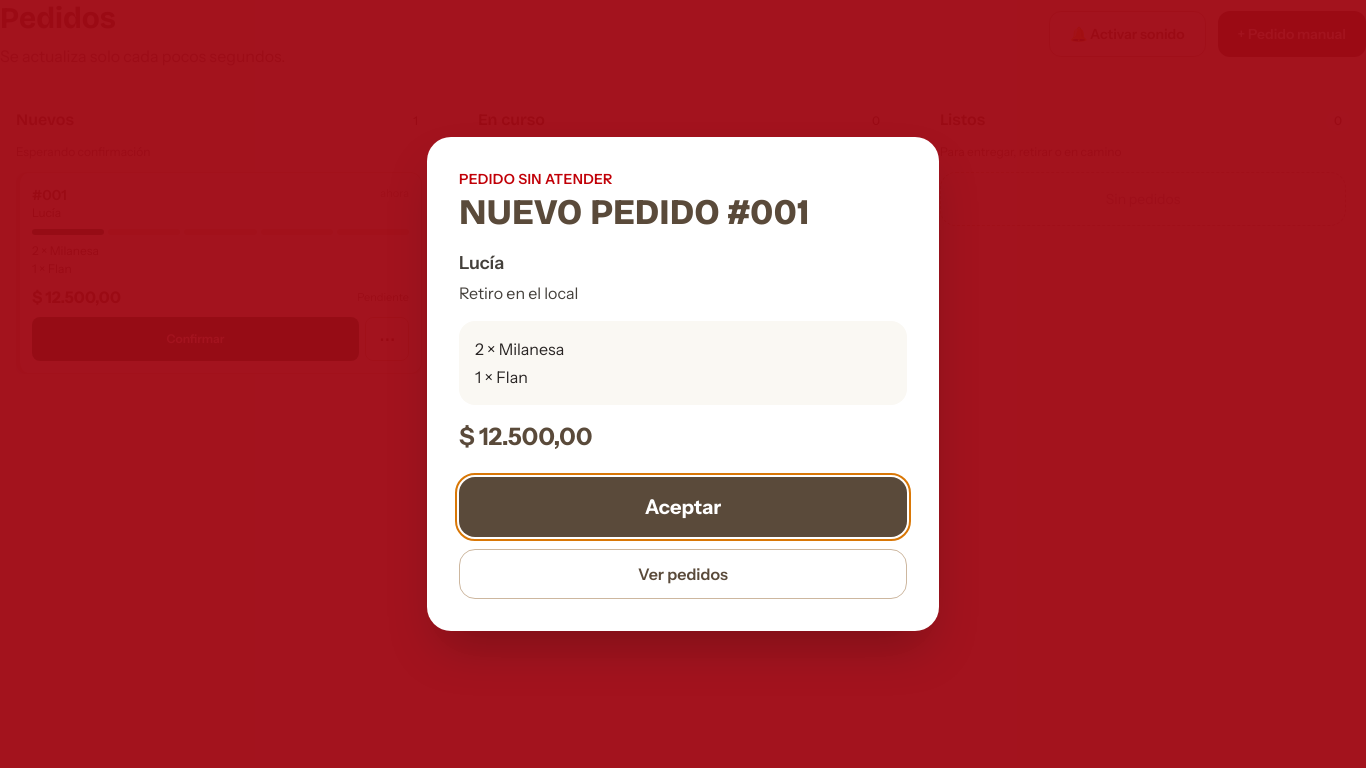
Test: tarjeta de pedido nuevo — ADMIN-PEDIDOS-24 › 'Aceptar' abre el selector de tiempo en vez de confirmar de golpe — ADMIN-PEDIDOS-31
The image size is (1366, 768).
Click the button "Aceptar". click: (683, 507)
box: 459,477 -> 907,537
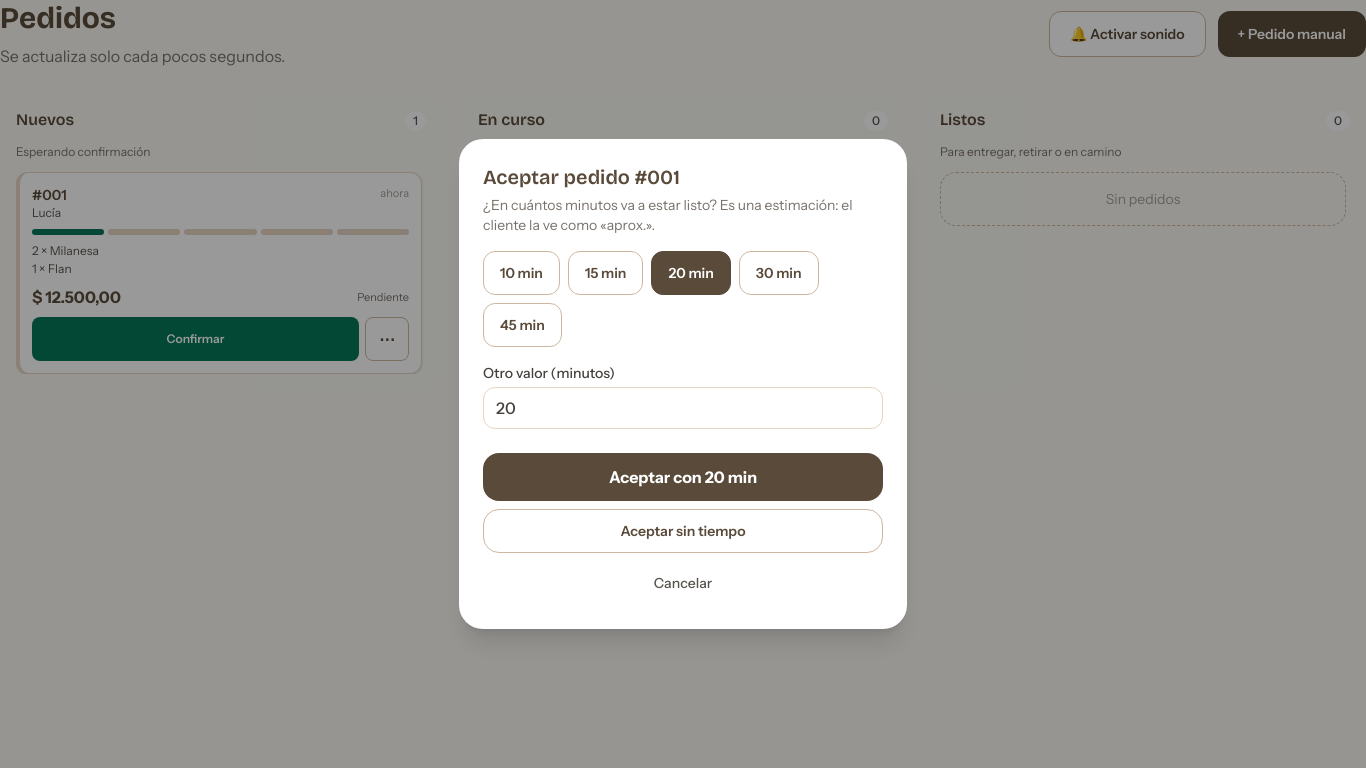
Expected: the dialog "Aceptar pedido #001" is shown, 459,139 -> 907,629
